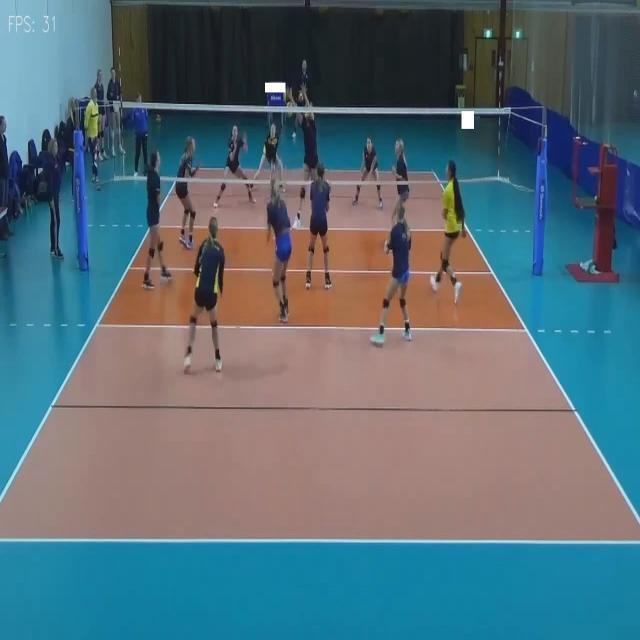volleyball: (284, 103, 296, 116)
